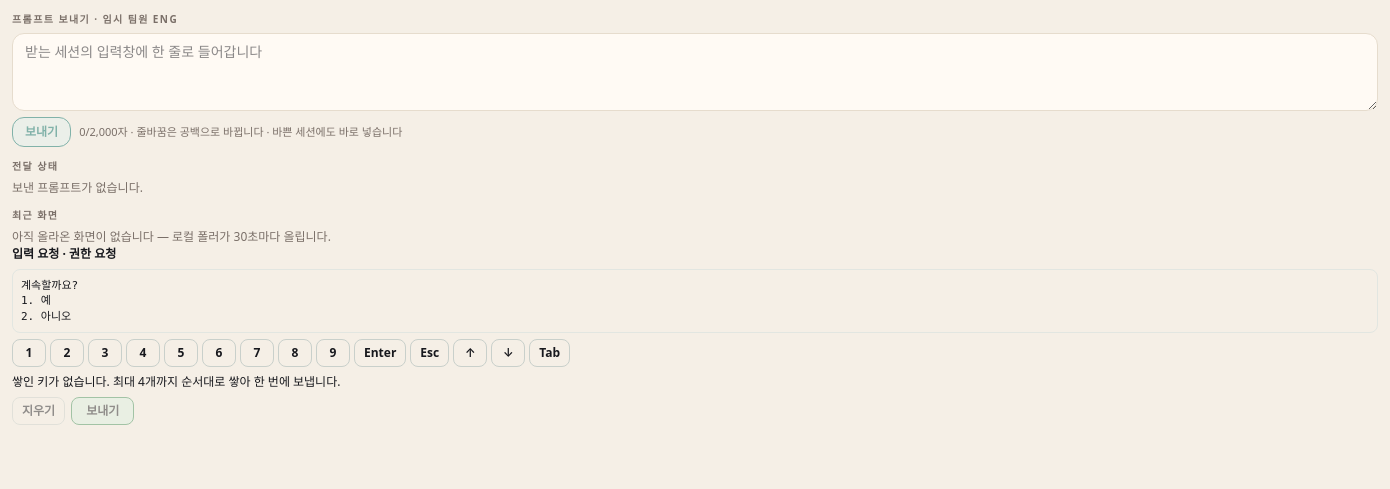
Scenario: AgentConsole — 입력 요청 답하기 › 코드 not_answerable 안내
Click the button "1".
click(29, 353)  # box [12,339,46,367]
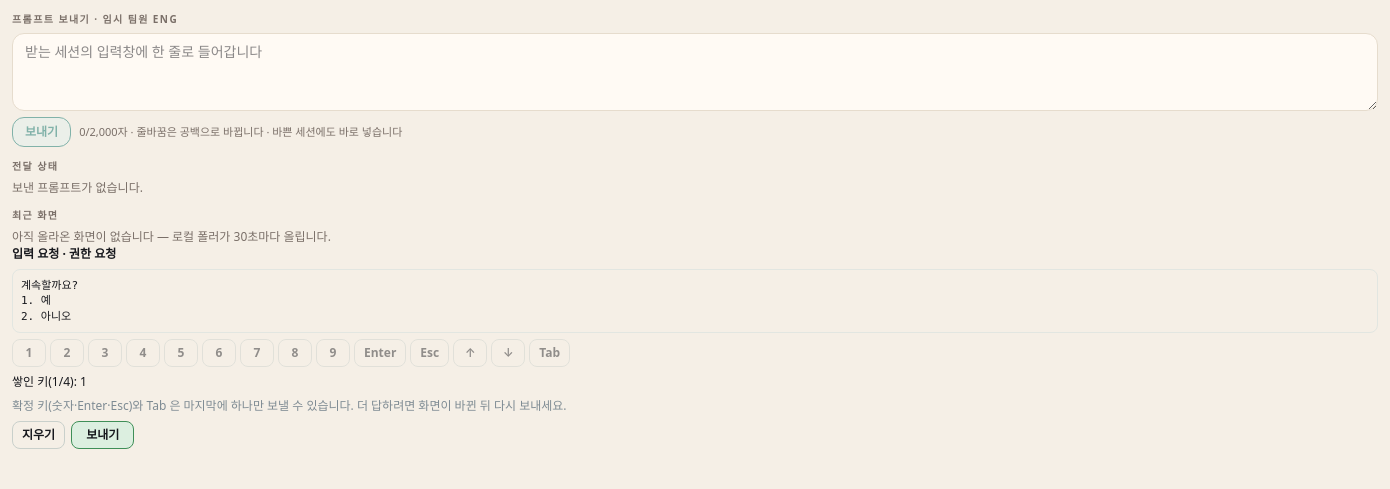
Click the button "보내기" below "쌓인 키(1/4): 1".
click(103, 435)  # box [71,421,134,449]
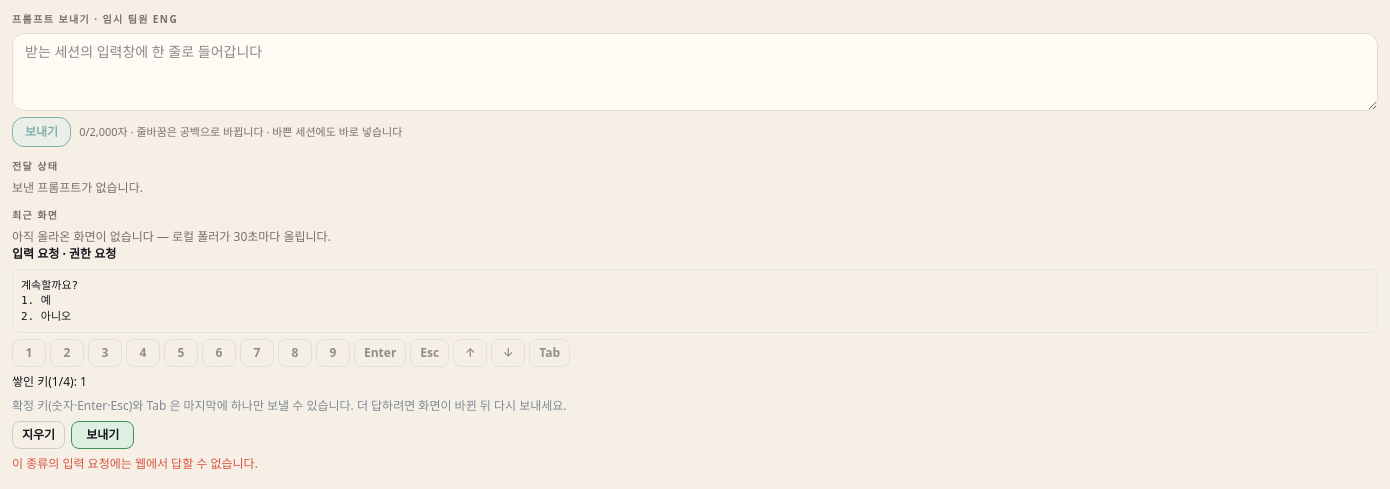
Check: the message "이 종류의 입력 요청에는 웹에서 답할 수 없습니다." is shown, box [12,455,258,472]
